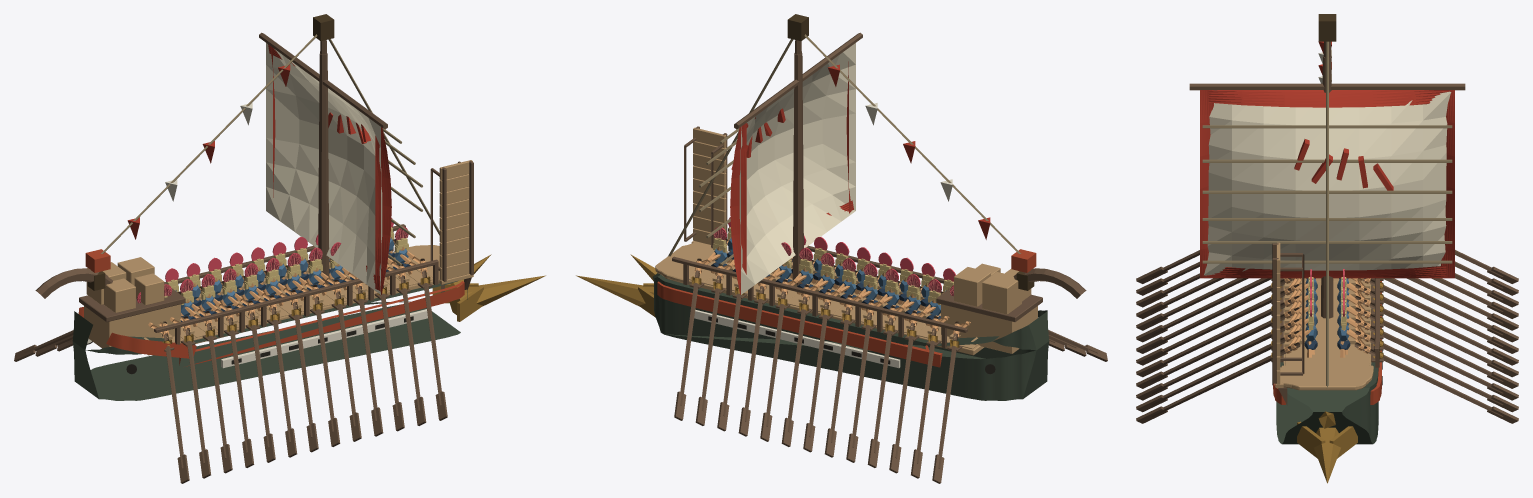
The model's file is warship-battle-v3.glb.
3 views of the same model, side by side, from view 1: azimuth 30°, elevation 25°; view 2: azimuth 150°, elevation 25°; view 3: azimuth 270°, elevation 25° (orthographic). The views are drawn at different scales.
Visible parts, largest first — view 1: sail, hull-low, n27, mast, n295, n281, n31, n253, n29, n283, n289, hull-prow (+21 smaller); view 2: sail, hull-low, n3, mast, n293, n281, n233, n7, n273, Bow transfer deck, n277, n283 (+18 smaller); view 3: sail, hull-low, n297, n299, Bow transfer deck, n289, n293, n295, n325, n307, n311, n301 (+29 smaller).
Part boxes in pixels (box(x1,y1,x2,y2)): sail: box(266, 43, 382, 294); hull-low: box(72, 280, 467, 400); n27: box(179, 281, 464, 366); mast: box(318, 53, 329, 283); n295: box(375, 127, 391, 294); n281: box(84, 304, 180, 353); n31: box(221, 309, 427, 368); n253: box(154, 259, 438, 332); n29: box(106, 332, 196, 358); n283: box(79, 283, 185, 321); n289: box(259, 32, 387, 129); hull-prow: box(449, 275, 545, 314); sail: box(739, 43, 855, 294); hull-low: box(652, 273, 1049, 400); n3: box(657, 281, 942, 367); mast: box(792, 53, 803, 285); n293: box(730, 123, 746, 294); n281: box(941, 304, 1037, 353); n233: box(672, 256, 967, 332); n7: box(694, 309, 900, 368); n273: box(982, 272, 1021, 314); Bow transfer deck: box(655, 242, 727, 282); n277: box(954, 267, 990, 306); n283: box(936, 288, 1042, 321); sail: box(1204, 91, 1451, 275); hull-low: box(1276, 285, 1378, 444); n297: box(1208, 90, 1449, 107); n299: box(1201, 265, 1446, 278); Bow transfer deck: box(1281, 365, 1373, 390); n289: box(1189, 83, 1465, 90); n293: box(1441, 90, 1454, 278); n295: box(1200, 90, 1213, 278); n325: box(1326, 41, 1328, 388); n307: box(1202, 190, 1452, 193); n311: box(1202, 125, 1452, 128); n301: box(1202, 260, 1452, 263).
Size of the model in its own units: 6.41 by 4.2 by 3.75.
